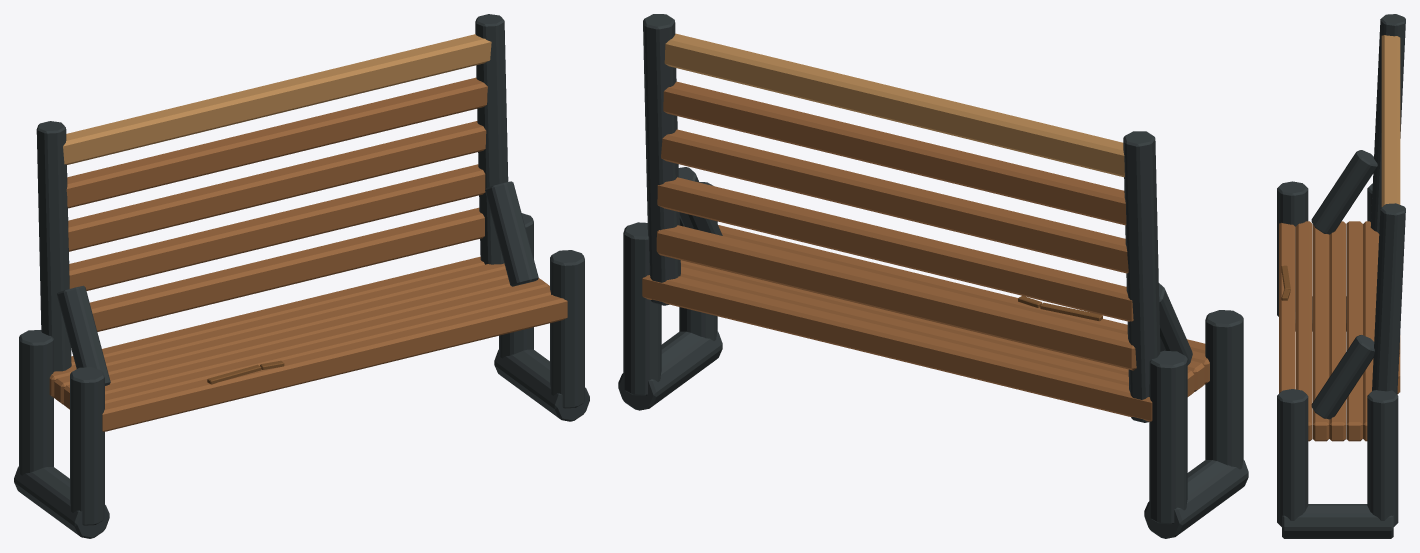
Rendered from runtime.glb.
3 renders of one model, left to right at view 1: azimuth 30°, elevation 25°; view 2: azimuth 150°, elevation 25°; view 3: azimuth 270°, elevation 25°, orthographic. The views are drawn at different scales.
Visible parts, largest first — view 1: eiffel-historic-bench-v03_nocol; view 2: eiffel-historic-bench-v03_nocol; view 3: eiffel-historic-bench-v03_nocol.
Boxes of the visible parts, left/top/right/bottom form: eiffel-historic-bench-v03_nocol: left=14, top=14, right=589, bottom=538; eiffel-historic-bench-v03_nocol: left=618, top=14, right=1248, bottom=538; eiffel-historic-bench-v03_nocol: left=1277, top=14, right=1405, bottom=538.
Size of the model in its own units: 2.1 by 1.41 by 0.514.
